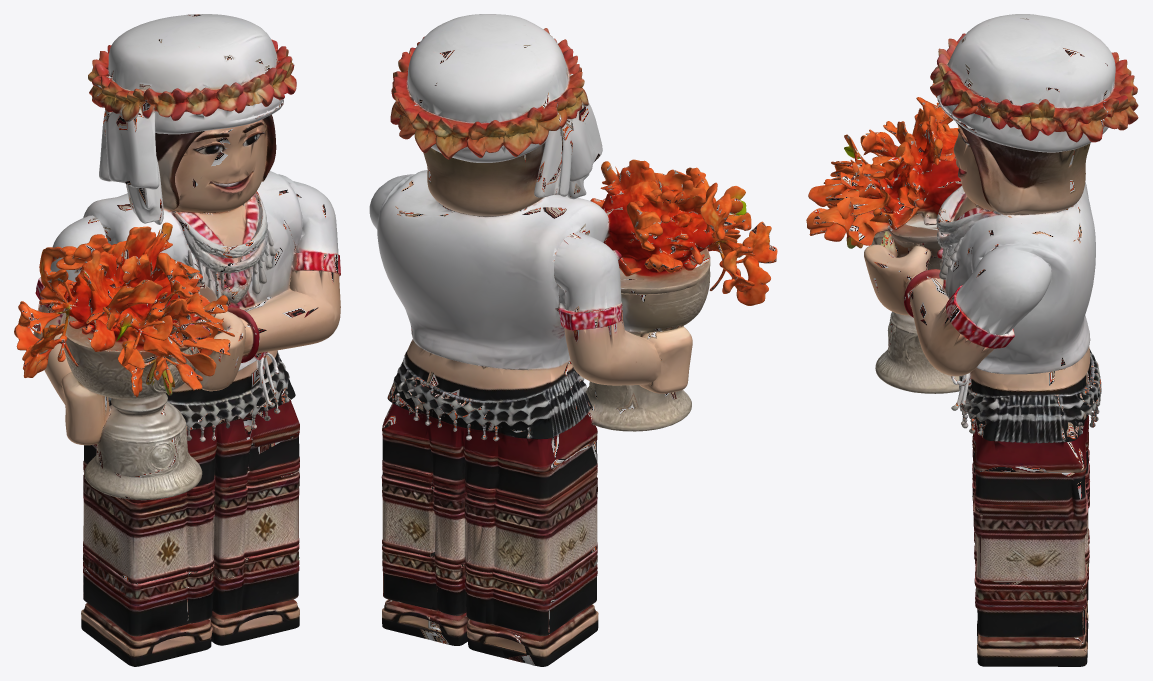
Rendered from namthip_web.glb.
The picture shows the model from 3 angles, left to right: view 1: azimuth 30°, elevation 25°; view 2: azimuth 150°, elevation 25°; view 3: azimuth 270°, elevation 25°; orthographic projection.
Parts seen in each view (by area): view 1: model; view 2: model; view 3: model.
Part boxes in pixels (x1=…): model: x1=14, y1=14, x2=340, y2=666; model: x1=369, y1=14, x2=777, y2=666; model: x1=806, y1=14, x2=1138, y2=666.
Bounding box in the file's own units: 1.17 × 1.9 × 0.959.
Materials: 1 (1 with a texture image).
